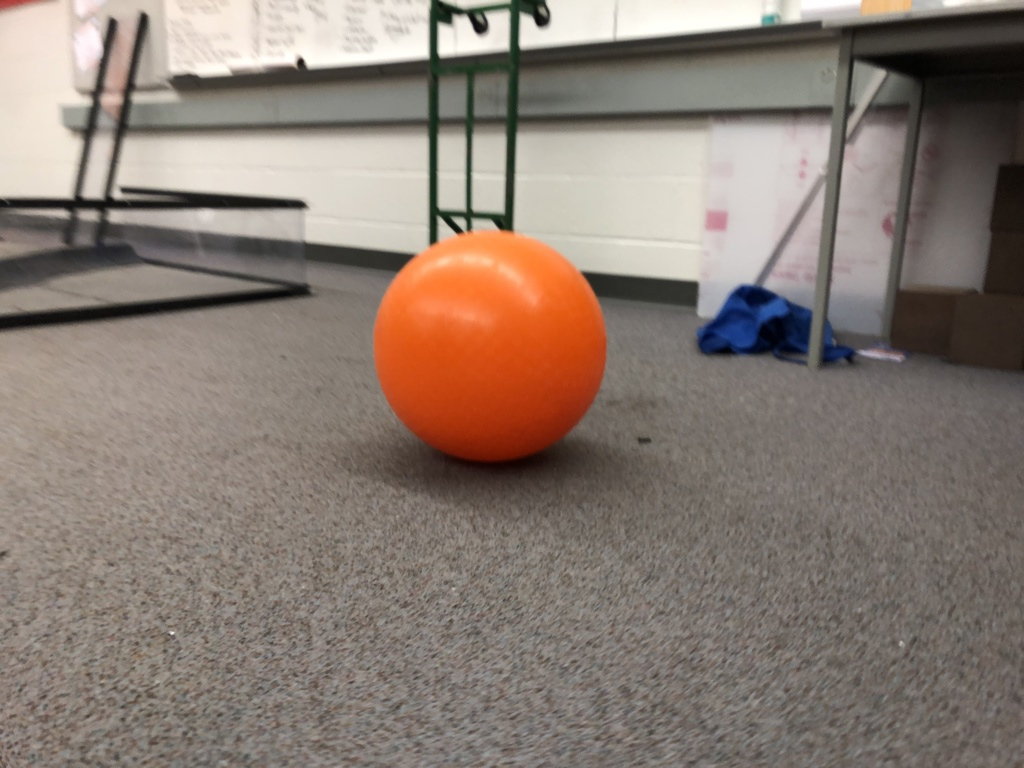cargo: (369, 224, 619, 478)
